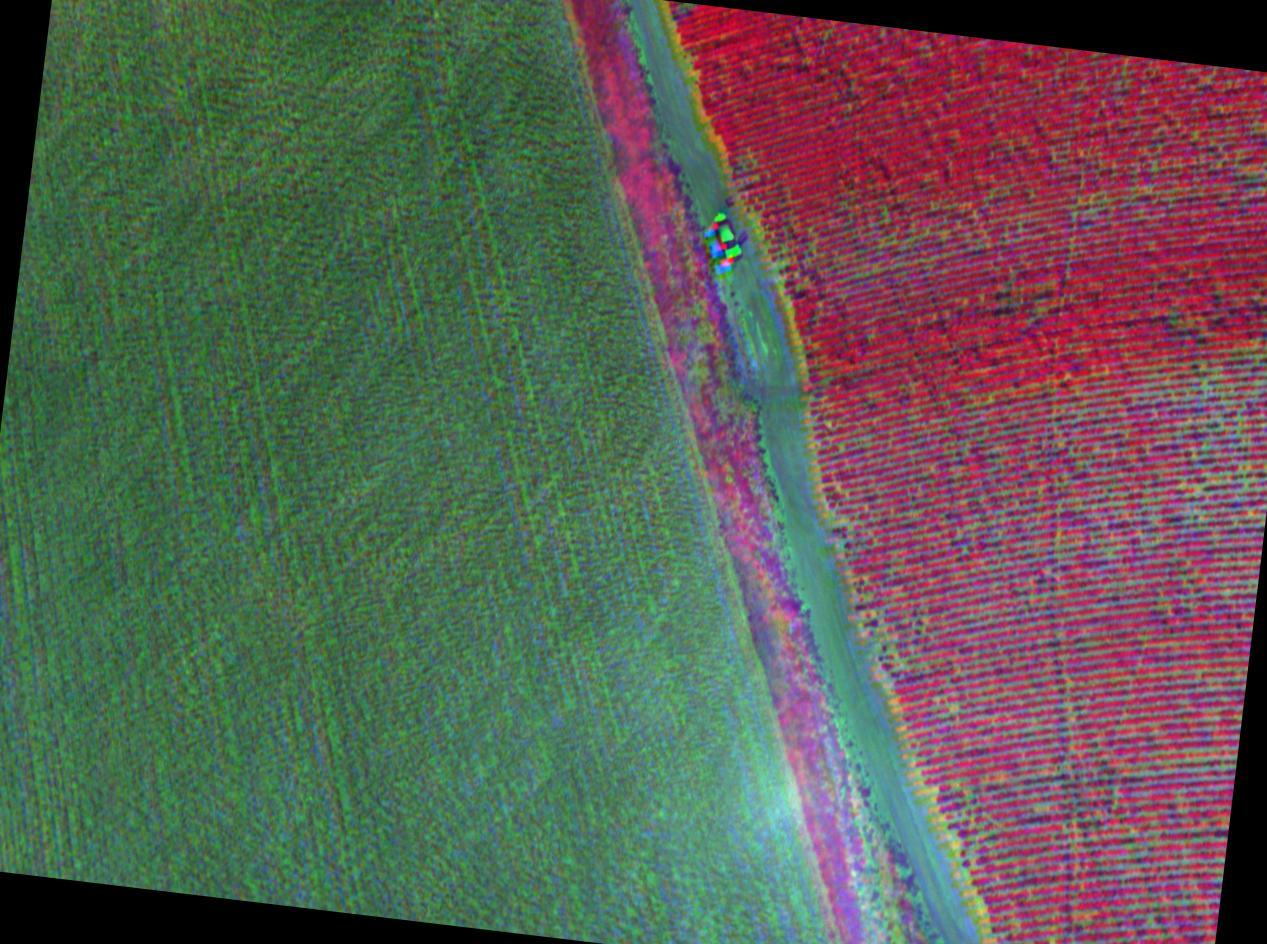dc: (1164, 353, 1266, 464), (857, 605, 936, 697), (1178, 475, 1264, 545), (940, 790, 1014, 867), (826, 513, 901, 581)
